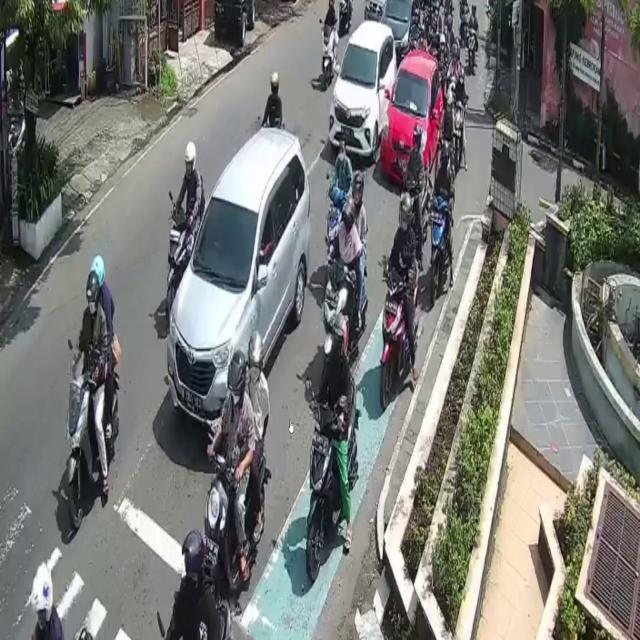bus: (306, 397, 358, 585), (65, 362, 121, 532), (200, 455, 264, 589), (377, 274, 409, 416), (322, 258, 367, 358), (427, 197, 448, 307)
motorcycle: (165, 126, 311, 428), (329, 21, 398, 163), (386, 48, 446, 188), (381, 0, 420, 52)
